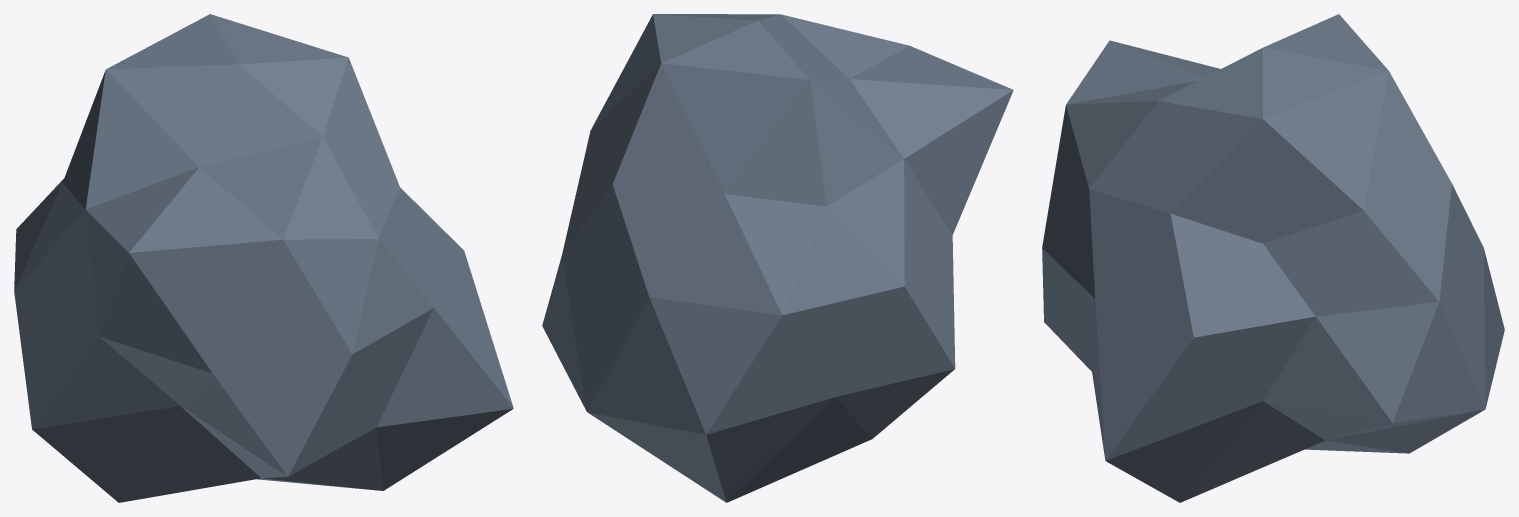
File: RegularRock.fbx
3 renders of one model, left to right at view 1: azimuth 30°, elevation 25°; view 2: azimuth 150°, elevation 25°; view 3: azimuth 270°, elevation 25°, orthographic. The views are drawn at different scales.
Parts seen in each view (by area): view 1: Icosphere.001; view 2: Icosphere.001; view 3: Icosphere.001.
Boxes of the visible parts, x1,y1,x2,y2 form: Icosphere.001: (14,14,513,502); Icosphere.001: (542,14,1013,502); Icosphere.001: (1042,14,1504,502).
Bounding box in the file's own units: 100 × 105 × 103.
